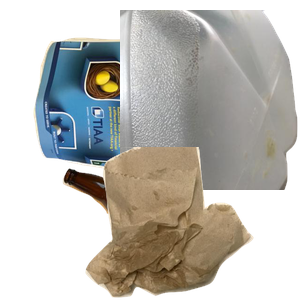glass: (60, 166, 241, 300)
paper: (31, 34, 252, 205)
plastic: (120, 10, 300, 190)
trash: (83, 147, 300, 300)
